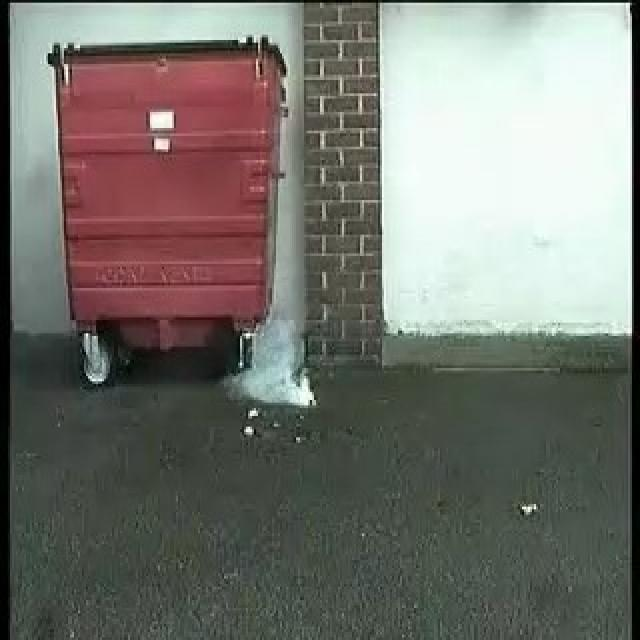smoke: (230, 317, 318, 404)
